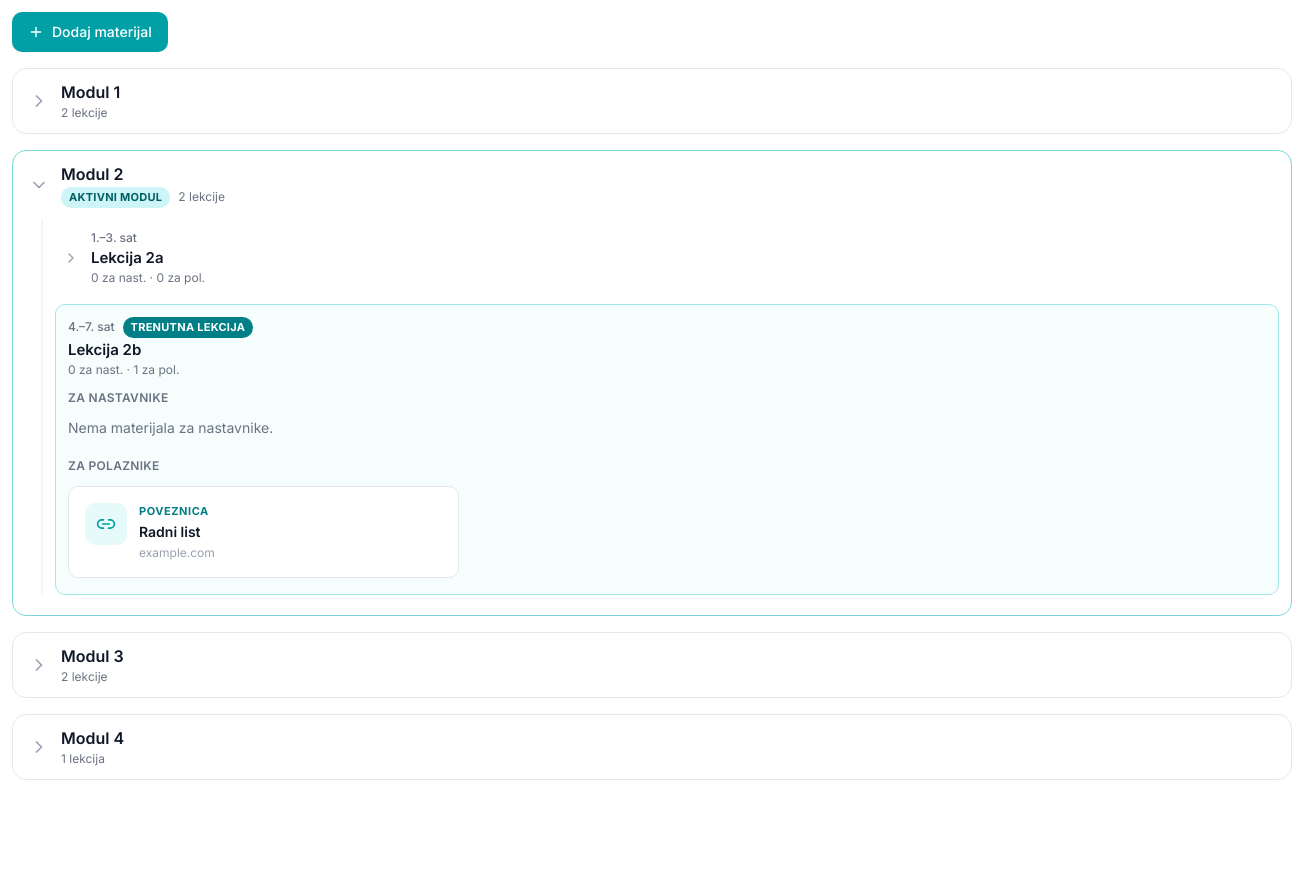
Scenario: GroupLessons › opens any other lesson and module on tap, tree-style
Click the button "Modul 1 2 lekcije".
click(91, 92)  # box [13,69,1291,133]
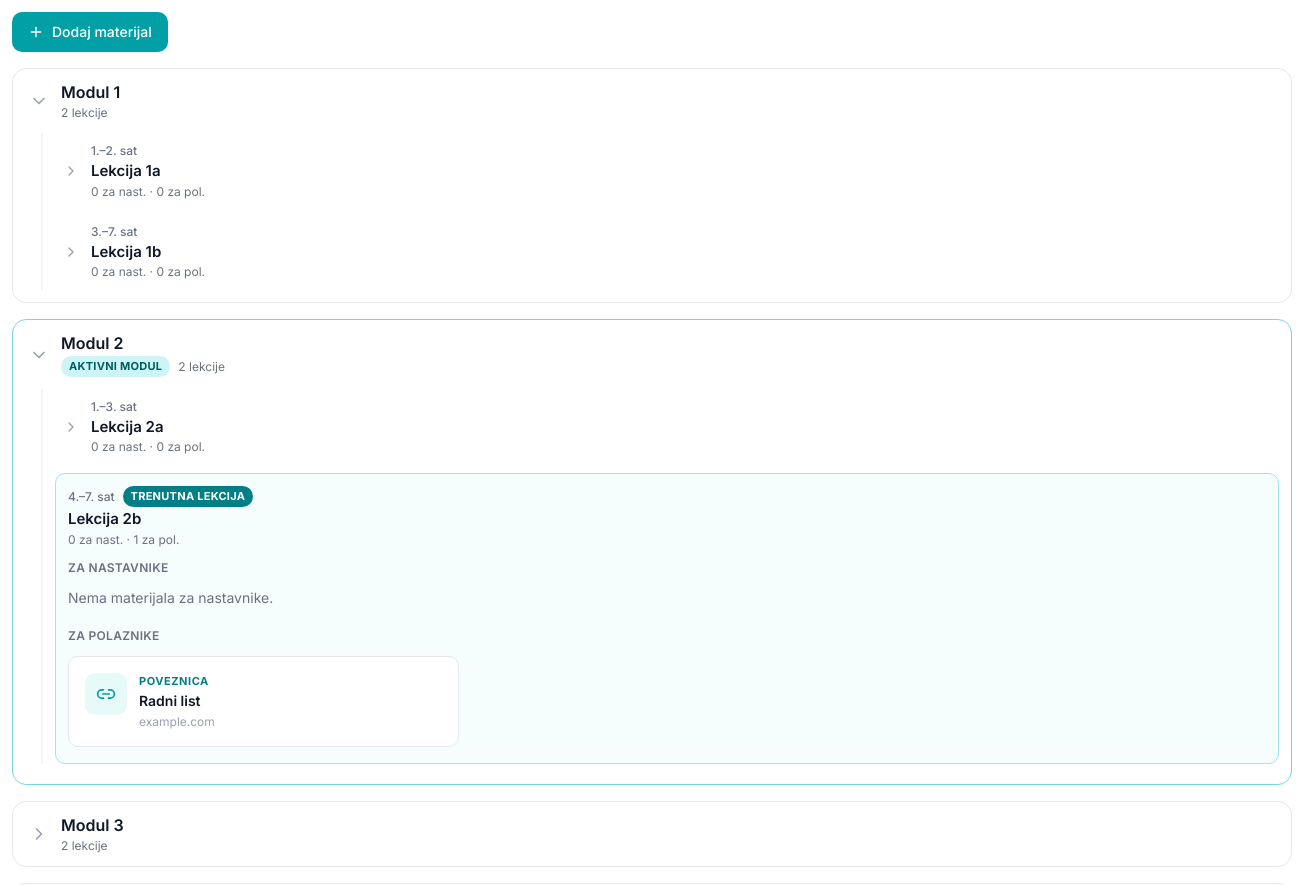
Click the button "3.–7. sat Lekcija 1b 0 za nast. · 0 za pol.".
click(114, 231)  # box [55,214,1279,290]
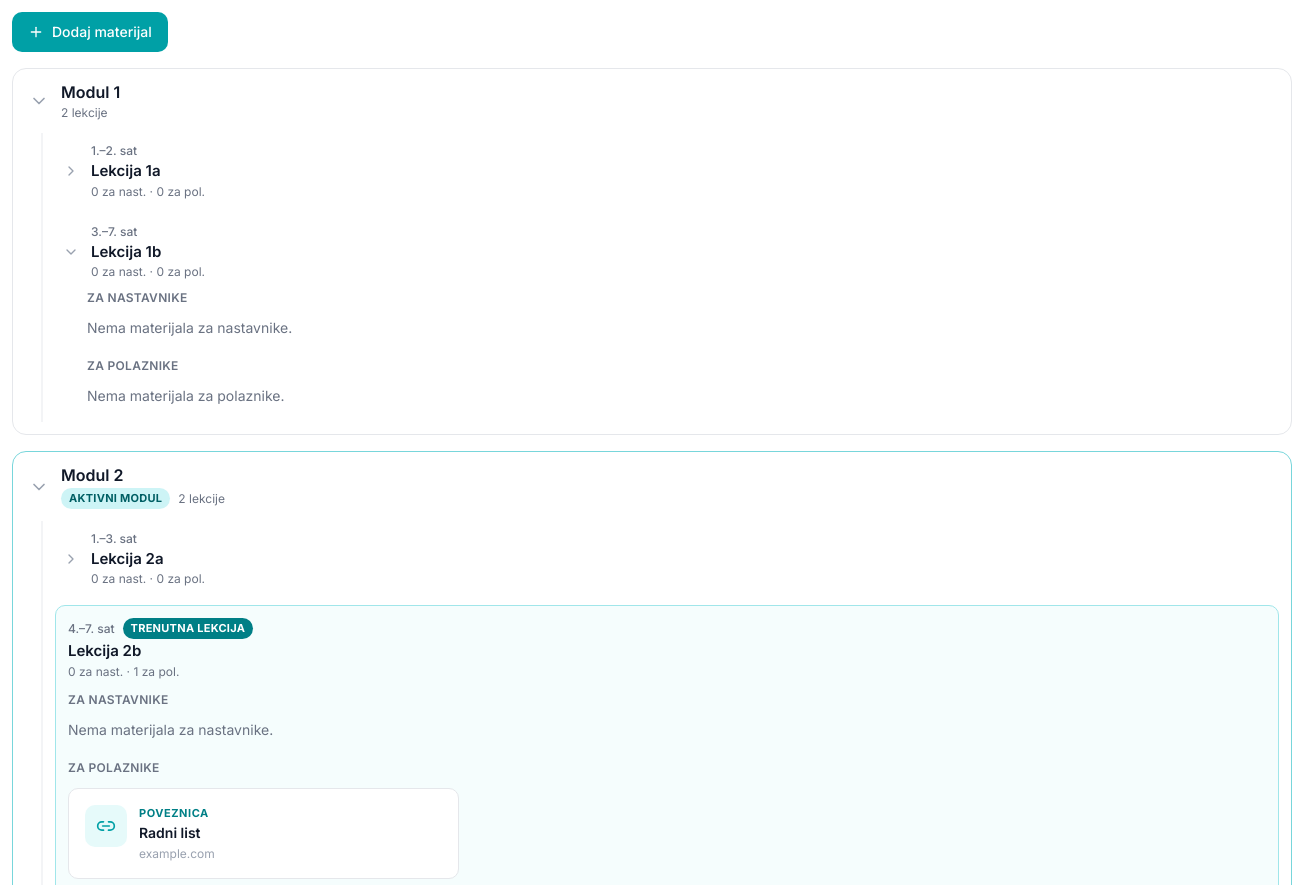
Result: the button "3.–7. sat Lekcija 1b 0 za nast. · 0 za pol." is expanded at [55,214,1279,290]
